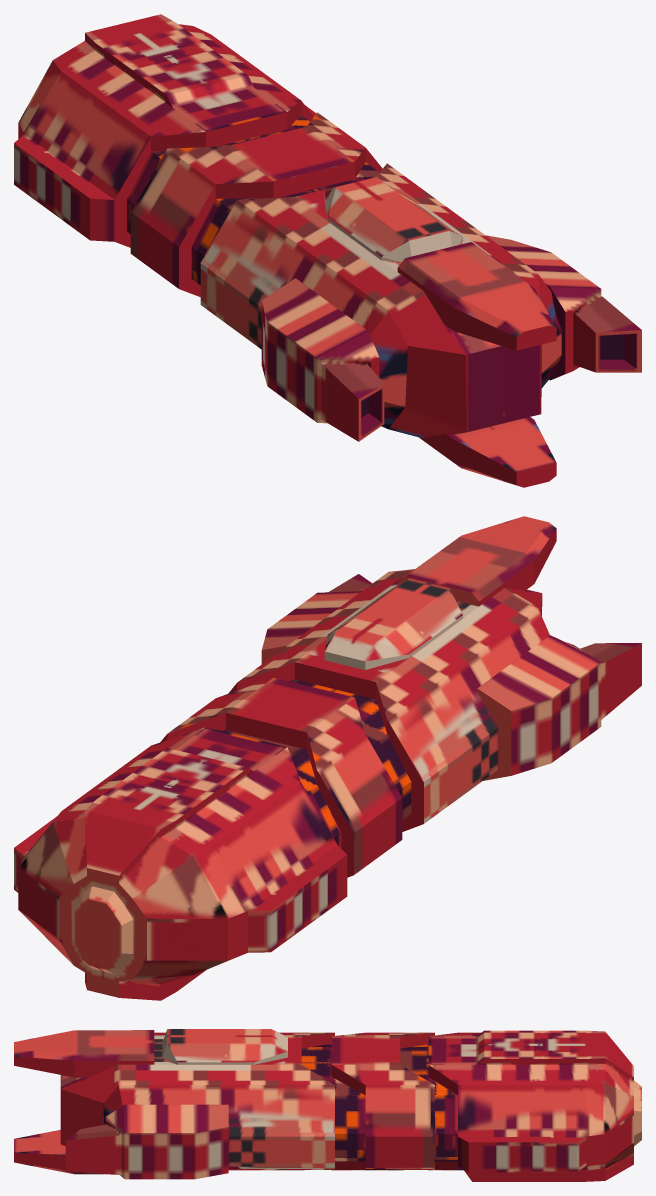
File: R4_blocking.fbx
3 views of the same model, one above another, from view 1: azimuth 30°, elevation 25°; view 2: azimuth 150°, elevation 25°; view 3: azimuth 270°, elevation 25° (orthographic). The views are drawn at different scales.
Visible parts, largest first — view 1: R4_1_main_hull, R4_1_Engines, R4_1_armor_fin_1, R4_1_armor_fin_2; view 2: R4_1_main_hull, R4_1_Engines, R4_1_armor_fin_1; view 3: R4_1_main_hull, R4_1_Engines, R4_1_armor_fin_1, R4_1_armor_fin_2.
Part boxes in pixels (box(x1,y1,x2,y2)): R4_1_main_hull: box(14, 14, 561, 438); R4_1_Engines: box(261, 235, 641, 441); R4_1_armor_fin_1: box(397, 242, 556, 350); R4_1_armor_fin_2: box(419, 417, 556, 487); R4_1_main_hull: box(14, 569, 549, 1000); R4_1_Engines: box(261, 574, 641, 780); R4_1_armor_fin_1: box(397, 516, 556, 606); R4_1_main_hull: box(60, 1029, 641, 1181); R4_1_Engines: box(65, 1104, 228, 1179); R4_1_armor_fin_1: box(14, 1030, 154, 1077); R4_1_armor_fin_2: box(14, 1130, 105, 1174).
Size of the model in its own units: 728 by 450 by 1950.
